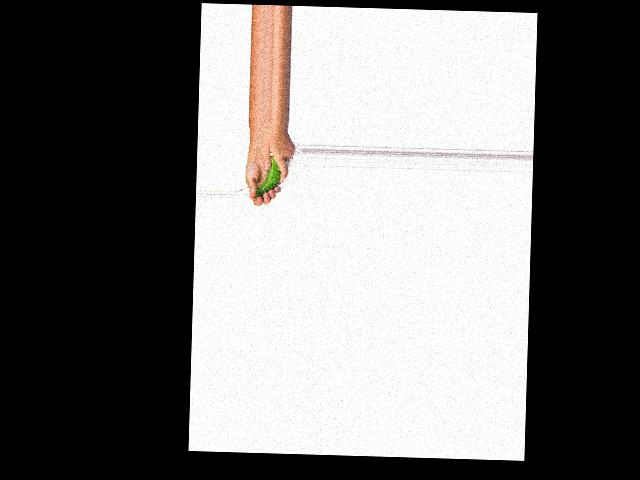cucumber: (255, 154, 281, 198)
